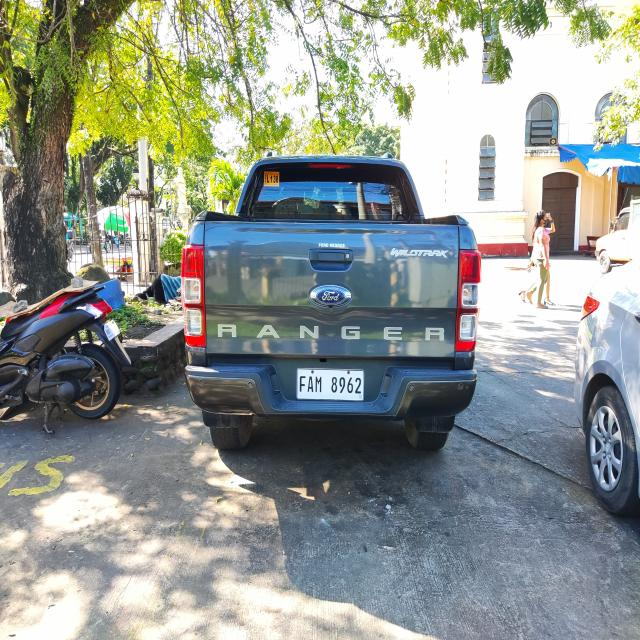plate: (296, 366, 366, 403)
